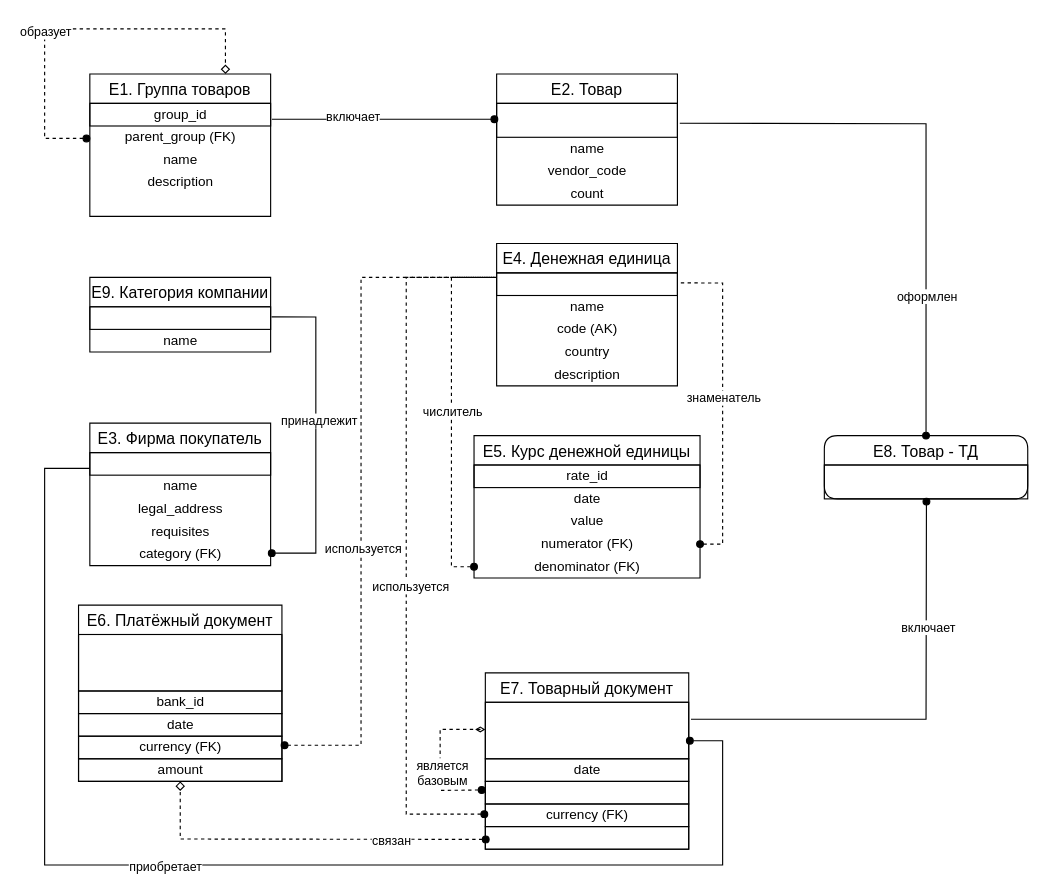
Some shapes in this 1048 by 894 pixel diagram are drawn without their labels. The centre of each missing label's shape, as x and y in pixels:
"base_document (FK)" goes at (586,792).
"category_id" goes at (180,317).
"company_id" goes at (180,463).
"currency_id" goes at (586,283).
"good_id (FK) good_doc (FK)" goes at (925,481).
"good_id group_id (FK)" goes at (586,119).
"id departament_id type" goes at (179,662).
"number type company (FK)" goes at (586,730).
"payment (FK)" goes at (586,837).
